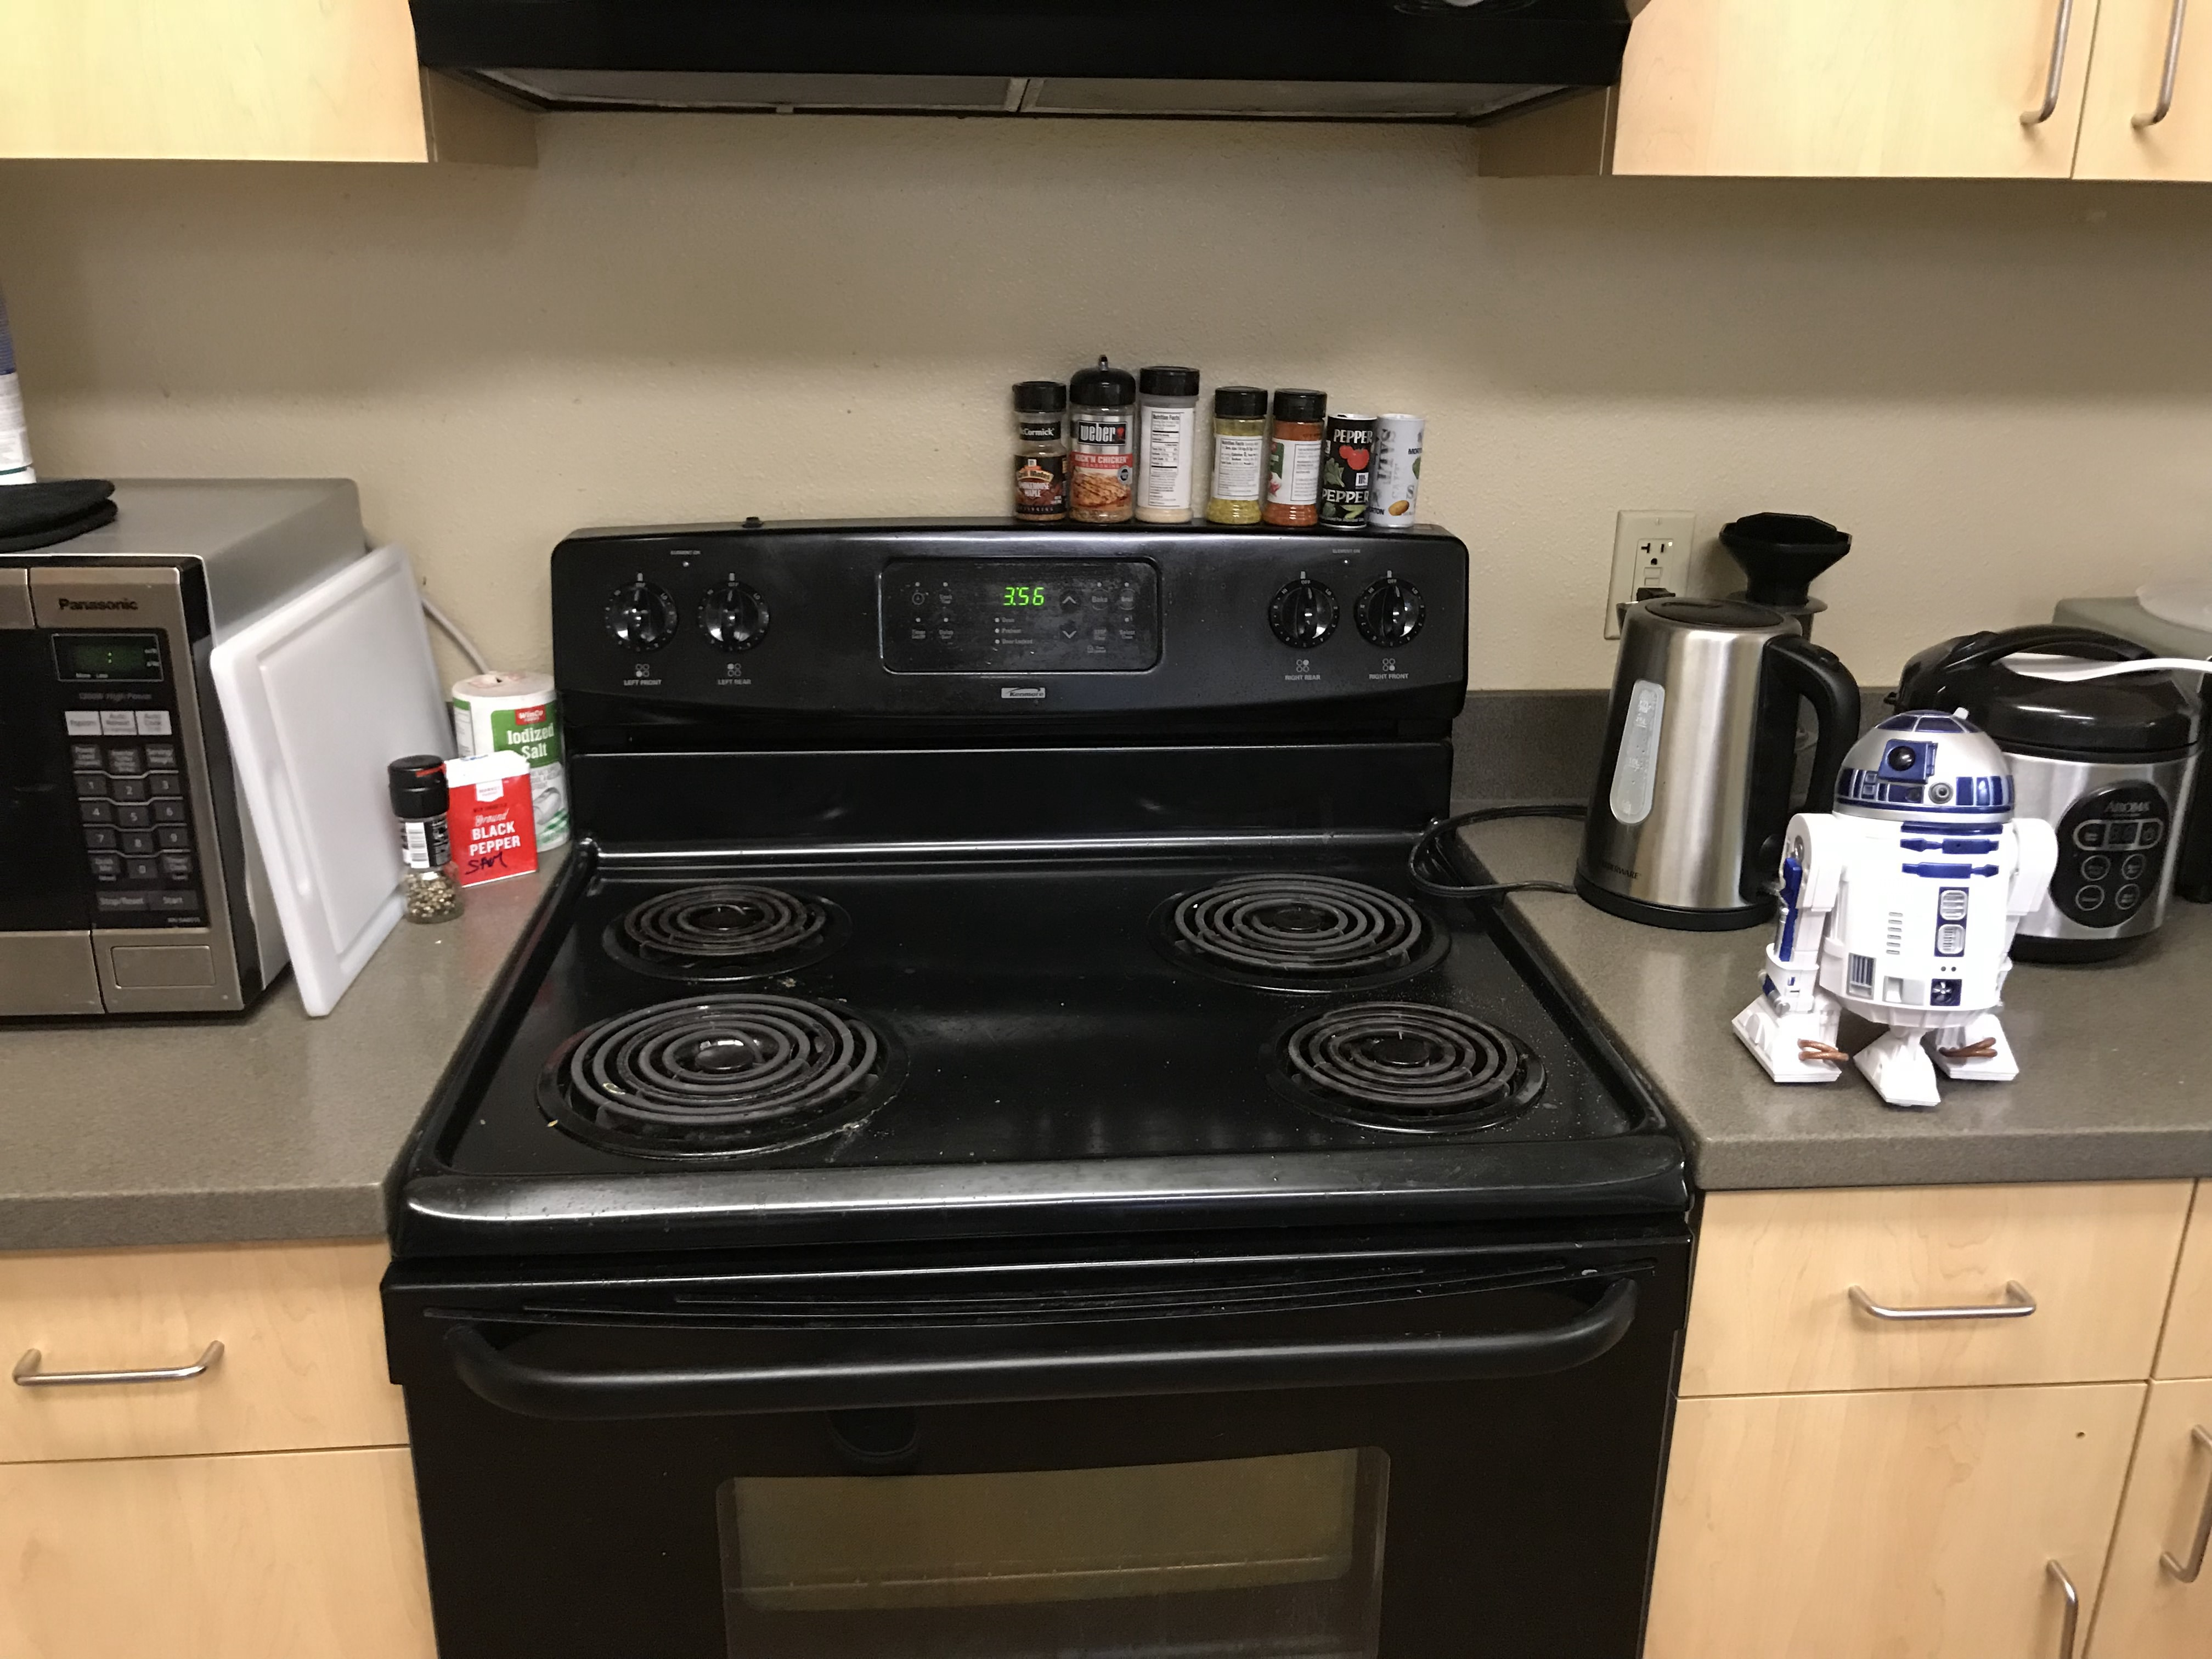r2d2: (1731, 706, 2060, 1112)
